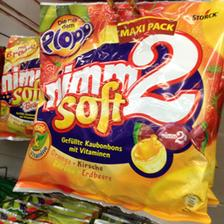Suessigkeit: (41, 3, 217, 214)
